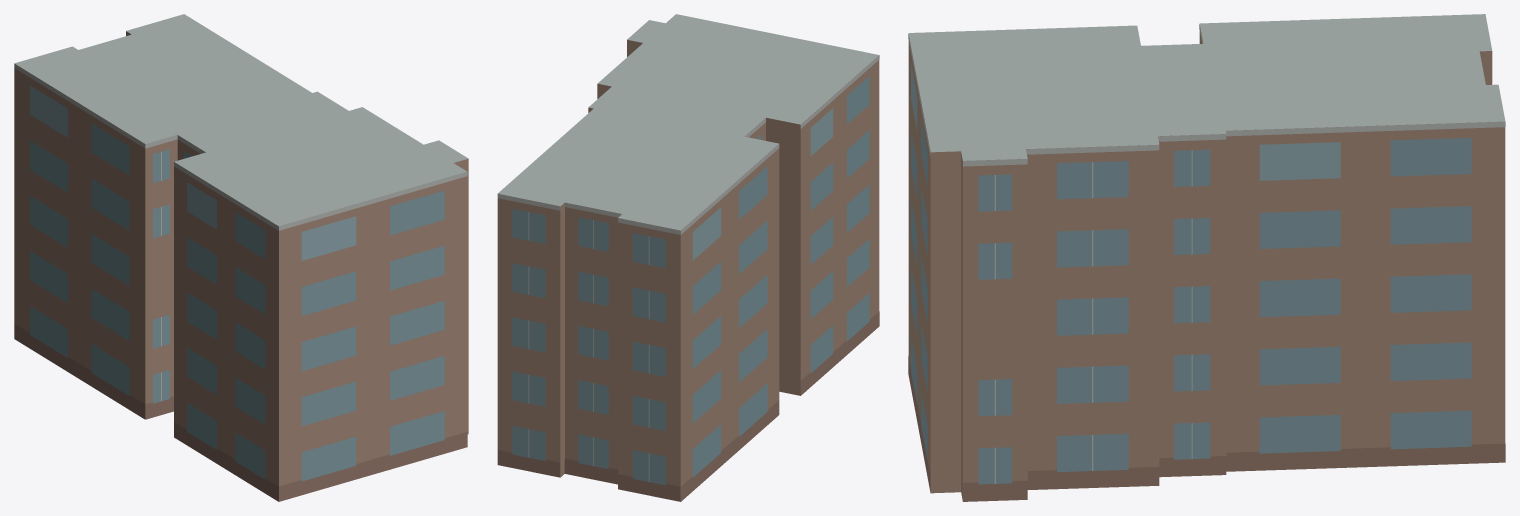
Rendered from survey-upis-32952821.glb.
3 views of the same model, side by side, from view 1: azimuth 30°, elevation 25°; view 2: azimuth 150°, elevation 25°; view 3: azimuth 270°, elevation 25° (orthographic). The views are drawn at different scales.
Visible parts, largest first — view 1: survey-upis-32952821.tmp; view 2: survey-upis-32952821.tmp; view 3: survey-upis-32952821.tmp.
Boxes of the visible parts, x1,y1,x2,y2 form: survey-upis-32952821.tmp: (14,14,468,501); survey-upis-32952821.tmp: (497,14,879,501); survey-upis-32952821.tmp: (908,14,1505,501).
Bounding box in the file's own units: 13.68 × 14.8 × 23.5.
